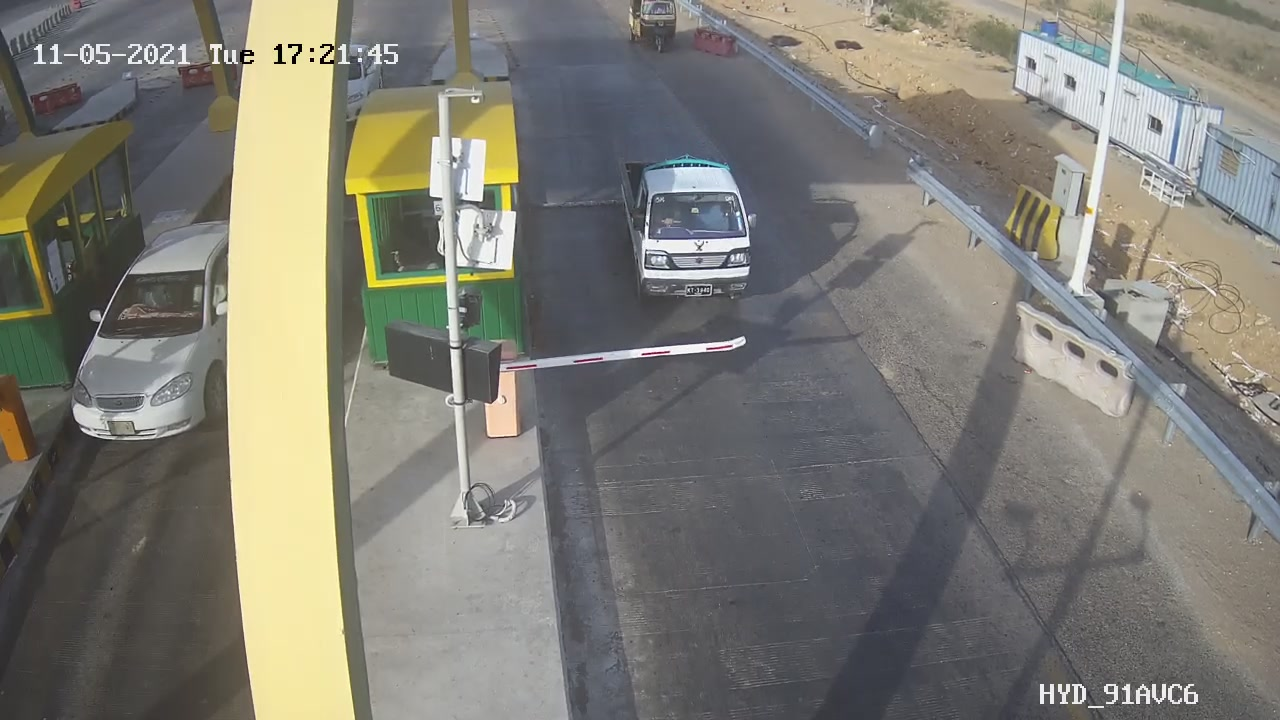F1: (604, 139, 769, 320)
